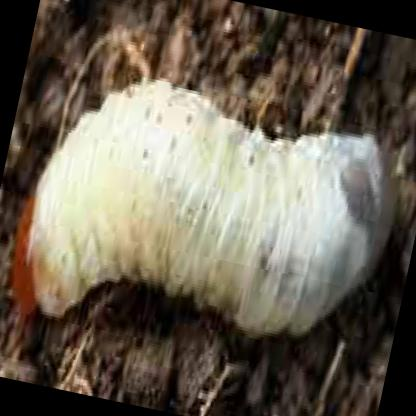root grubs: (12, 76, 393, 338)
